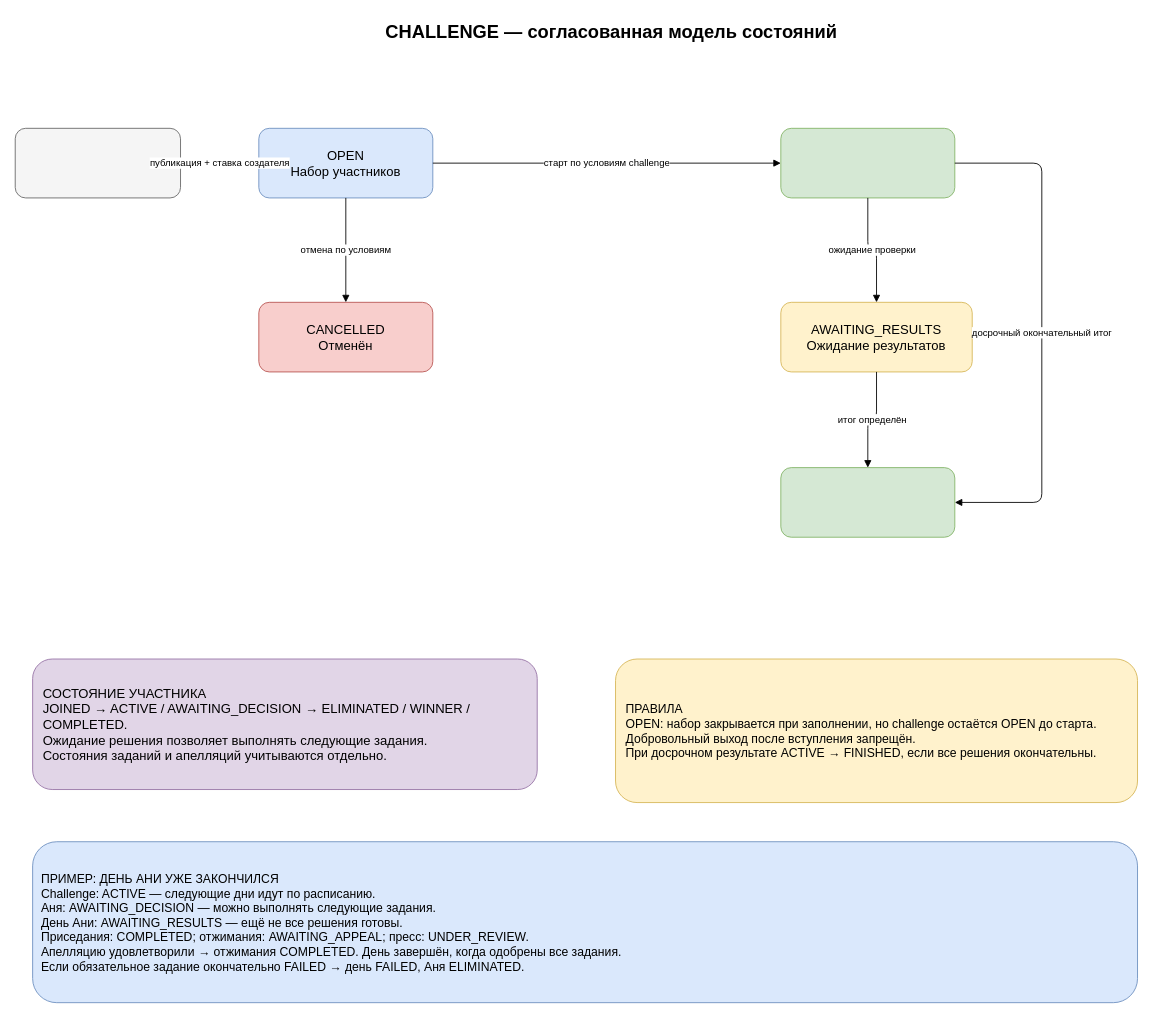
Some shapes in this 1170 by 1018 pixel diagram are drawn without their labels. Each missing label, with the centre of its shape:
ACTIVE Challenge идёт: the point at 867,162
DRAFT Черновик: the point at 97,162
FINISHED Завершён: the point at 867,502
